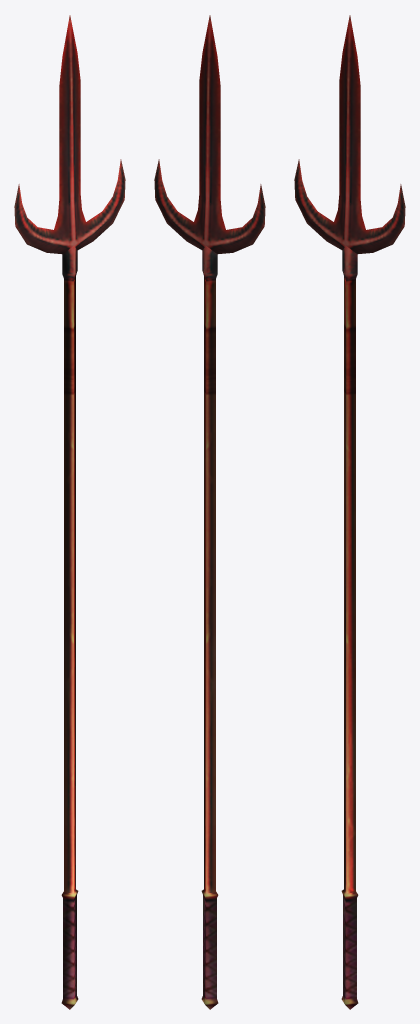
Rendered from Polearm15.FBX.
3 renders of one model, left to right at view 1: azimuth 30°, elevation 25°; view 2: azimuth 150°, elevation 25°; view 3: azimuth 330°, elevation 25°, orthographic.
Visible parts, largest first — view 1: Polearm15; view 2: Polearm15; view 3: Polearm15.
Boxes of the visible parts, x1,y1,x2,y2 form: Polearm15: (14, 15, 125, 1009); Polearm15: (154, 15, 265, 1009); Polearm15: (294, 15, 405, 1009).
Size of the model in its own units: 32.35 by 277 by 4.95.
